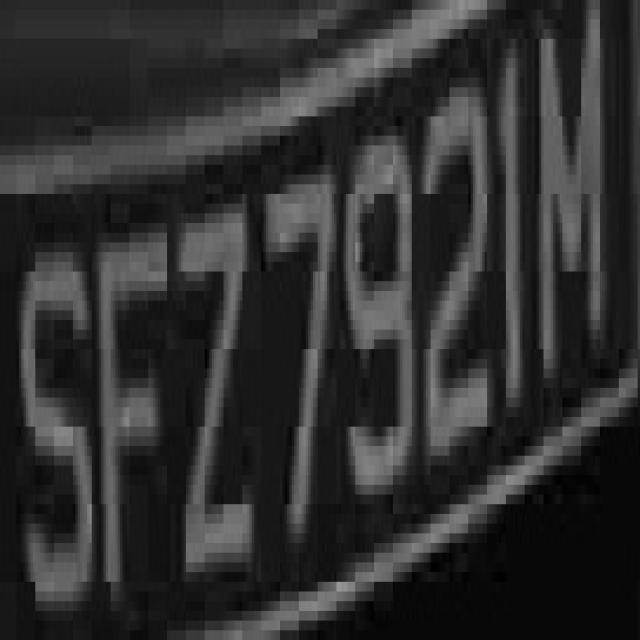1: (494, 19, 522, 466)
2: (419, 88, 494, 466)
7: (254, 146, 334, 602)
9: (337, 116, 414, 514)
F: (92, 184, 167, 572)
M: (539, 10, 612, 398)
S: (14, 204, 92, 630)
Z: (177, 174, 254, 611)
